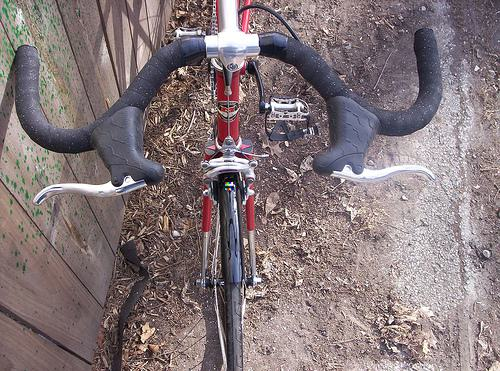car: (14, 1, 444, 371)
